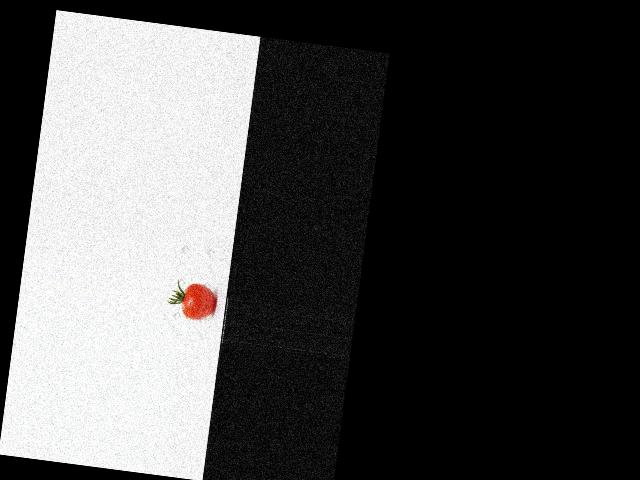tomato: (180, 281, 217, 321)
